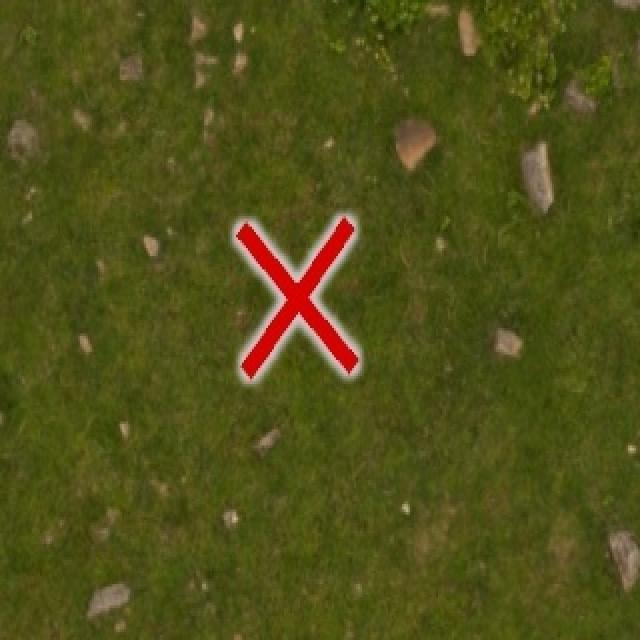x_marker: (235, 218, 357, 378)
